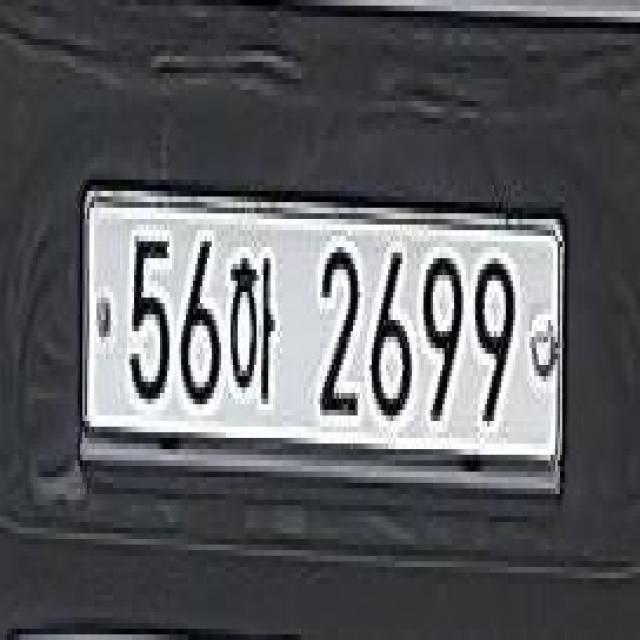2: (314, 237, 362, 431)
5: (123, 218, 173, 406)
6: (364, 244, 414, 423), (176, 223, 222, 414)
9: (416, 242, 466, 428), (471, 243, 518, 428)
ha: (226, 240, 278, 414)
license_plate: (75, 165, 572, 516)
